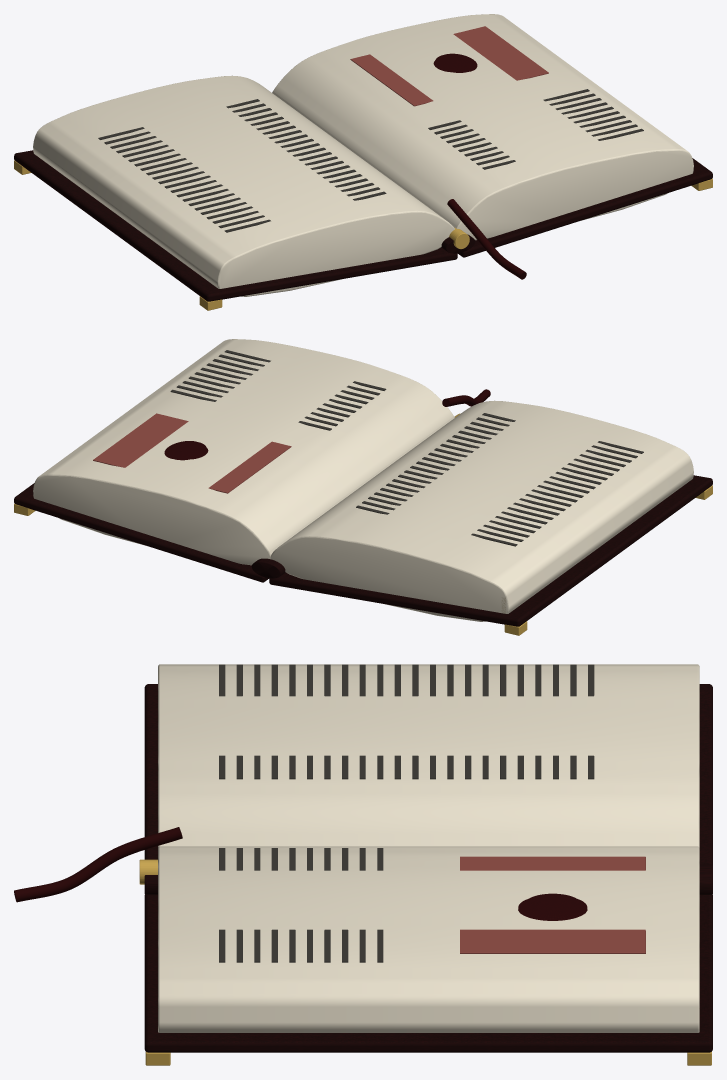
The model's file is textbook.glb.
The picture shows the model from 3 angles, top to bottom: view 1: azimuth 30°, elevation 25°; view 2: azimuth 150°, elevation 25°; view 3: azimuth 270°, elevation 25°; orthographic projection. The views are drawn at different scales.
Visible parts, largest first — view 1: pages_l, pages_r, cover_l, diagram_plate, cover_r, ribbon, diagram_heart; view 2: pages_l, pages_r, cover_l, diagram_plate, cover_r, diagram_heart, spine; view 3: pages_l, pages_r, cover_r, diagram_plate, cover_l, ribbon, diagram_heart, spine.
Boxes of the visible parts, x1,y1,x2,y2 form: pages_l: [33, 75, 454, 296]; pages_r: [272, 14, 693, 240]; cover_l: [14, 150, 457, 301]; diagram_plate: [350, 26, 548, 106]; cover_r: [458, 158, 712, 257]; ribbon: [447, 199, 526, 279]; diagram_heart: [433, 53, 477, 72]; pages_l: [270, 400, 693, 621]; pages_r: [33, 339, 454, 565]; cover_l: [269, 475, 712, 626]; diagram_plate: [93, 413, 291, 493]; cover_r: [14, 483, 268, 582]; diagram_heart: [164, 441, 208, 460]; spine: [251, 558, 285, 578]; pages_l: [158, 664, 699, 847]; pages_r: [158, 846, 699, 1032]; cover_r: [144, 895, 712, 1052]; diagram_plate: [460, 856, 645, 953]; cover_l: [144, 684, 712, 864]; ribbon: [14, 827, 182, 902]; diagram_heart: [518, 893, 587, 920]; spine: [144, 864, 712, 894].
Bounding box in the file's own units: 1.54 × 0.1777 × 1.26.
Materials: 7 (2 with a texture image).
